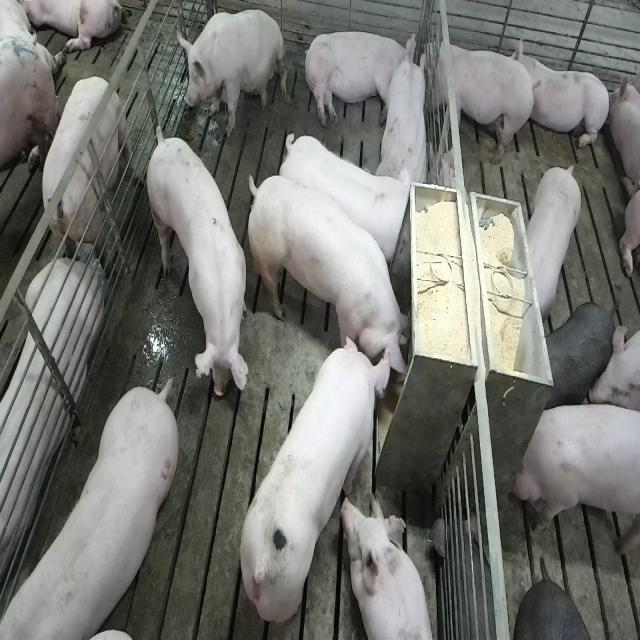Feeding: (238, 332, 394, 625), (251, 173, 417, 391)
Lateral_lying: (302, 28, 417, 128)
Sitting: (174, 8, 286, 138)
Standing: (0, 383, 176, 639), (144, 128, 246, 412), (512, 396, 639, 558), (34, 75, 133, 278), (279, 127, 409, 262), (422, 29, 536, 168), (524, 156, 586, 318), (543, 300, 620, 416)
Sternal_lying: (0, 257, 100, 602), (344, 494, 438, 640), (520, 35, 611, 153), (378, 50, 432, 192)
